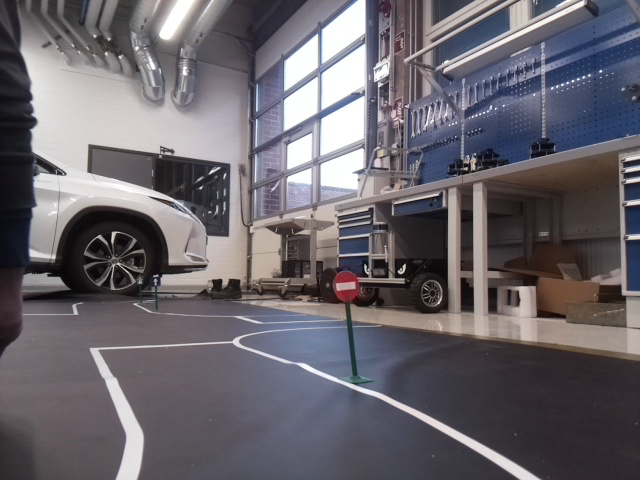NoEntry: (332, 270, 357, 300)
